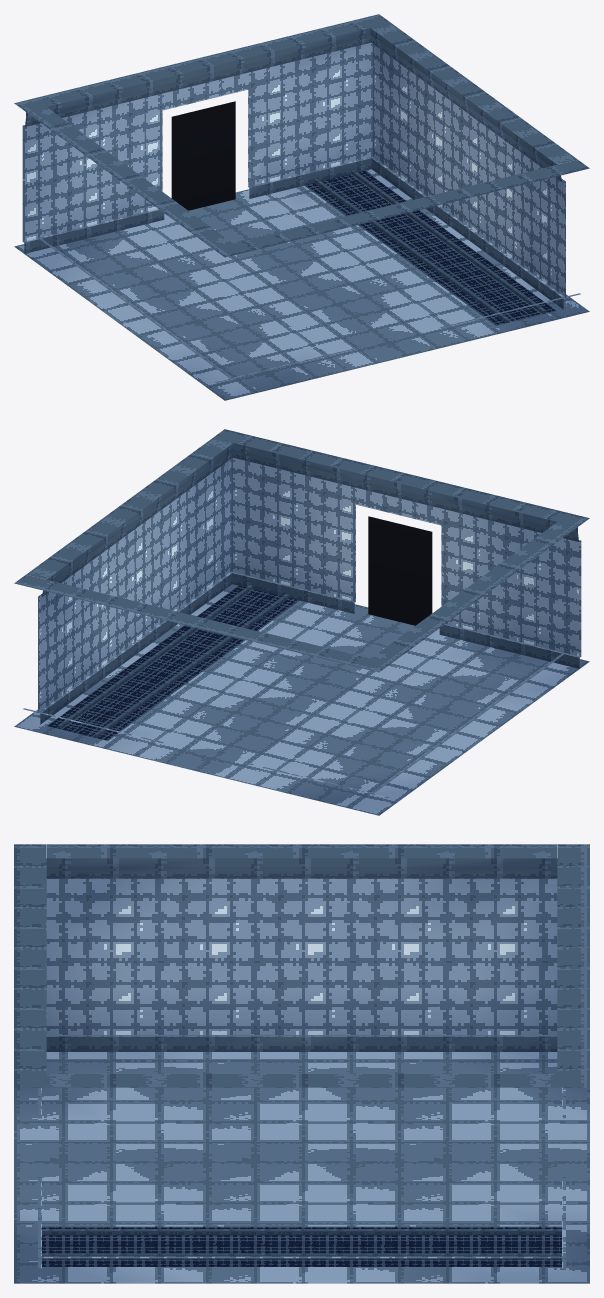
The model's file is cyroom.subway.glb.
3 views of the same model, one above another, from view 1: azimuth 30°, elevation 25°; view 2: azimuth 150°, elevation 25°; view 3: azimuth 270°, elevation 25° (orthographic). The views are drawn at different scales.
Parts seen in each view (by area): view 1: kit_shell_walls, kit_shell_floor, kit_card_lights, kit_trim; view 2: kit_shell_walls, kit_shell_floor, kit_card_lights, kit_trim; view 3: kit_shell_walls, kit_shell_floor, kit_trim.
Part boxes in pixels (x1,y1,x2,y2): kit_shell_walls: (14, 14, 589, 383); kit_shell_floor: (14, 169, 589, 400); kit_card_lights: (171, 101, 235, 210); kit_trim: (314, 170, 545, 322); kit_shell_walls: (14, 429, 589, 798); kit_shell_floor: (14, 584, 589, 815); kit_card_lights: (368, 516, 432, 625); kit_trim: (58, 585, 289, 737); kit_shell_walls: (14, 844, 589, 1268); kit_shell_floor: (14, 1052, 589, 1283); kit_trim: (42, 1229, 561, 1259).
Size of the model in its own units: 12 by 4.5 by 12.
Materials: 8 (8 with a texture image).
